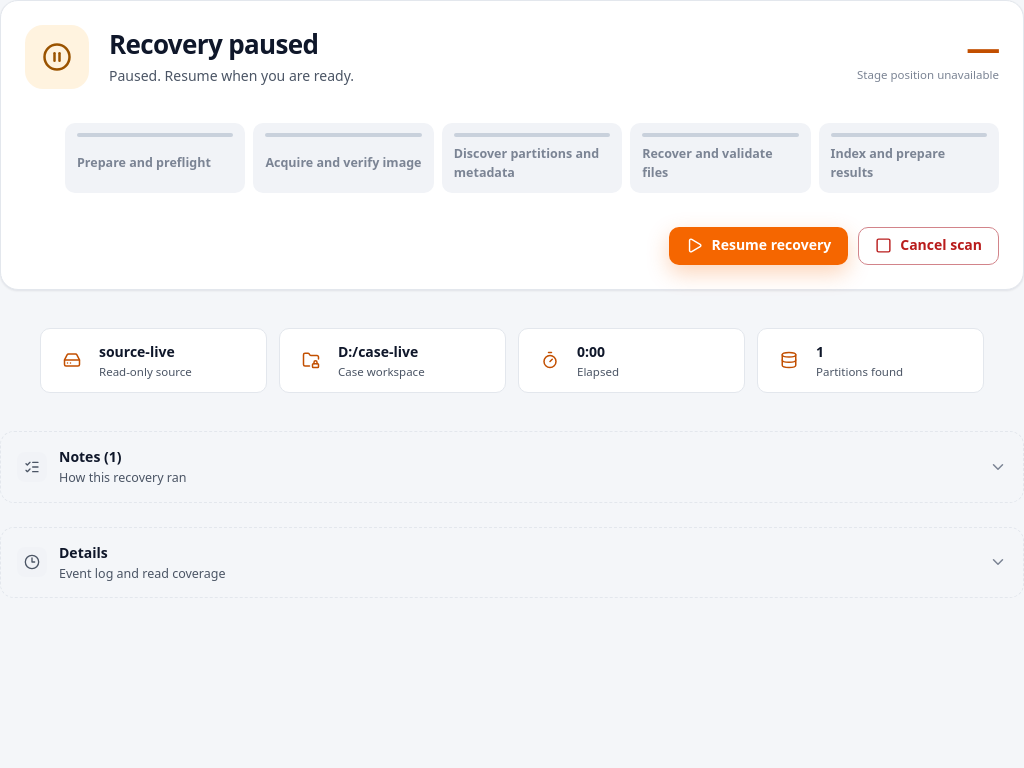
Scenario: live renderer pages › keeps the paused command error visible when Resume recovery fails
The width and height of the screenshot is (1024, 768).
Click the button "Resume recovery": [759, 246] box [669,226,848,264]
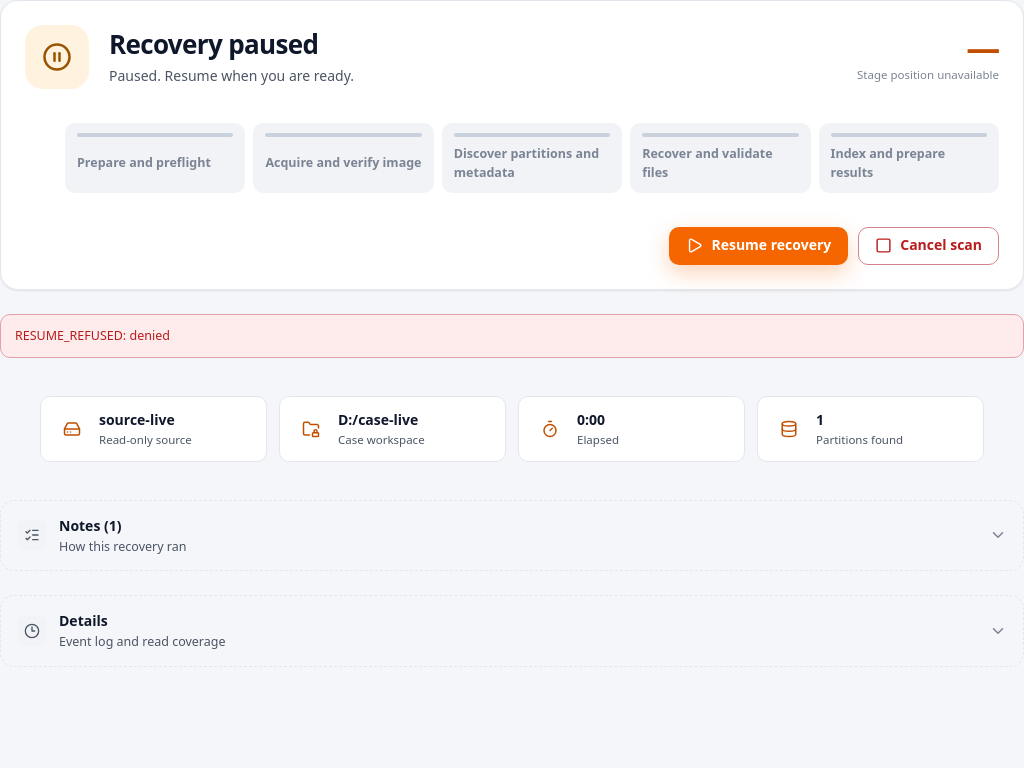
Check: the text "RESUME_REFUSED" is shown, box [15,326,170,344]
